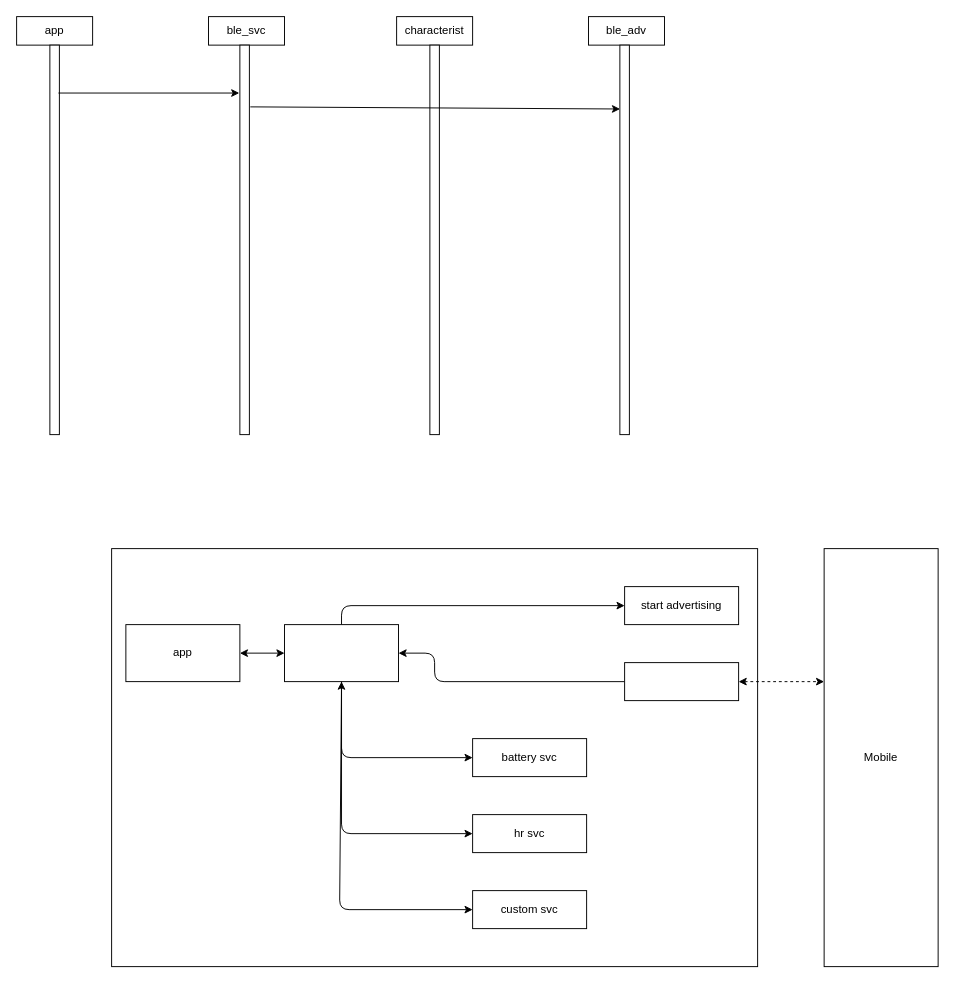
Some shapes in this 955 by 983 pixel diagram are drawn without their labels. The box of each missing label's shape, as (x1, y1, x2, y2) in pixels:
ble_service: (284, 624, 399, 682)
conn events: (624, 662, 739, 701)
